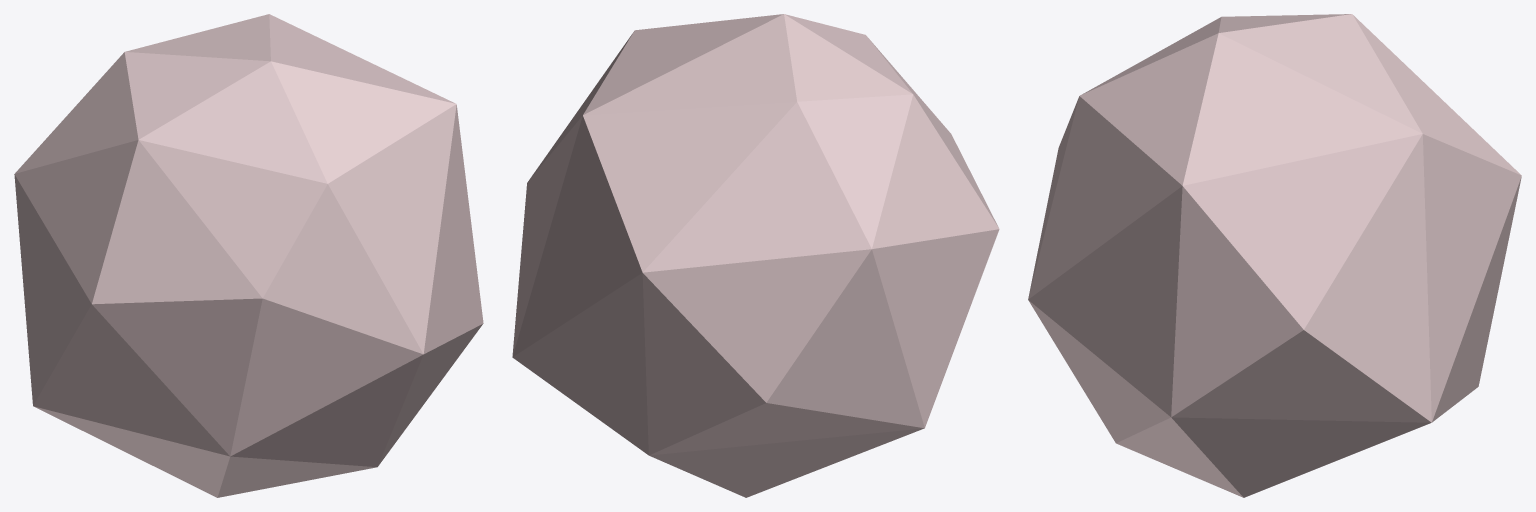
Rendered from Air_baloon_01.fbx.
3 views of the same model, side by side, from view 1: azimuth 30°, elevation 25°; view 2: azimuth 150°, elevation 25°; view 3: azimuth 270°, elevation 25° (orthographic).
Visible parts, largest first — view 1: Air_baloon_01; view 2: Air_baloon_01; view 3: Air_baloon_01.
Boxes of the visible parts, x1,y1,x2,y2 form: Air_baloon_01: (14, 14, 483, 497); Air_baloon_01: (512, 14, 999, 497); Air_baloon_01: (1028, 14, 1521, 497).
Size of the model in its own units: 60.26 by 60.39 by 62.22.
